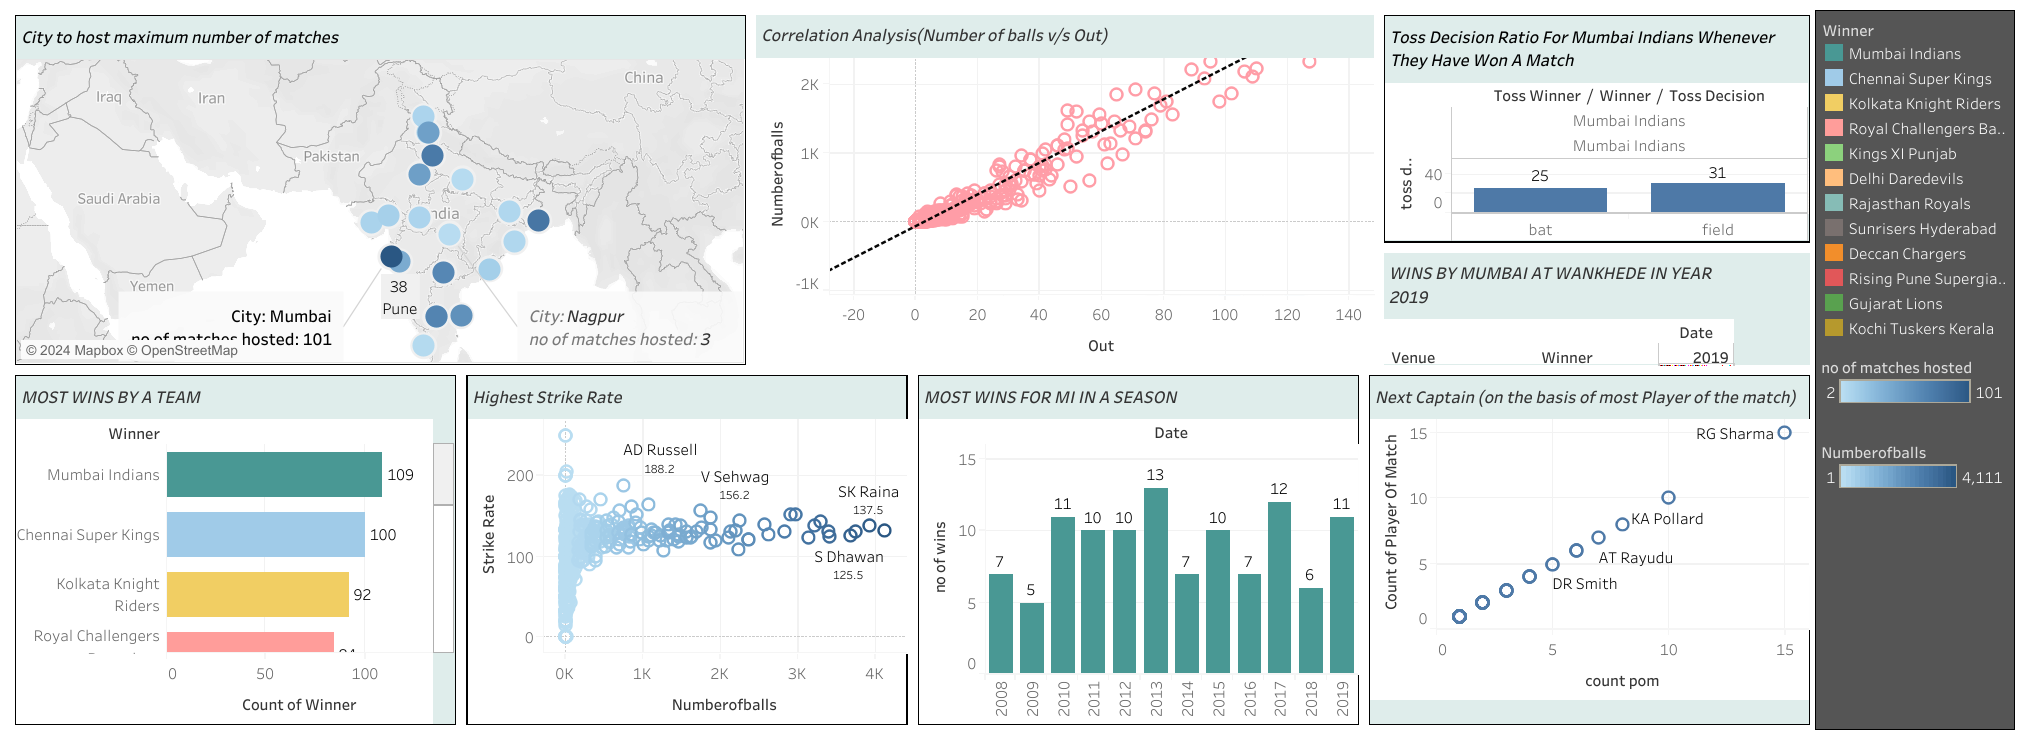

What the dashboard file says about the page in this screenshot:
{"tool":"tableau","page":{"name":"IPL DASHBOARD","canvas":[1000,1000],"units":"permille","ordinal":0},"visuals":[{"type":"worksheet","title":"city to host maximum number of matches","mark":"Automatic","box":[4.9,9.8,366.1,490.2]},{"type":"worksheet","title":"Correlation Analysis(Number of balls v/s Out)","mark":"Automatic","rows":["numberofballs"],"cols":["out"],"box":[371,9.8,309.9,490.2]},{"type":"worksheet","title":"Toss Decision Ratio For Mumbai Indians Whenever They Have Won A Match","mark":"Automatic","rows":["Calculation_1835498360740282371"],"cols":["toss_winner","winner","toss_decision"],"box":[680.9,9.8,215.4,322.7]},{"type":"legend","title":"Most Wins","param":"[federated.0f7ilxc0qfbh5o13xge3o13b1rwz].[none:winner:nk]","box":[896.9,11.1,97.5,347.3]},{"type":"worksheet","title":"Wins by mumbai at wankhede in 2019","mark":"Automatic","rows":["venue","winner"],"cols":["date"],"box":[680.9,332.5,215.4,167.5]},{"type":"legend","title":"city to host maximum number of matches","param":"[federated.0f7ilxc0qfbh5o13xge3o13b1rwz].[usr:Calculation_1835498360738824194:qk","box":[896.9,358.4,97.5,89.9]},{"type":"legend","title":"Highest Strike Rate","param":"[federated.0f7ilxc0qfbh5o13xge3o13b1rwz].[sum:numberofballs:qk]","box":[896.9,448.3,97.5,89.9]},{"type":"worksheet","title":"Most Wins","mark":"Automatic","rows":["winner"],"cols":["winner"],"box":[4.9,500,222.8,490.2]},{"type":"worksheet","title":"Highest Strike Rate","mark":"Automatic","rows":["Calculation_1835498360746192905"],"cols":["numberofballs"],"box":[227.8,500,222.8,490.2]},{"type":"worksheet","title":"MOST WINS FOR MI IN A SEASON","mark":"Bar","rows":["Calculation_1835498360736632832"],"cols":["date"],"box":[450.6,500,222.8,490.2]},{"type":"worksheet","title":"Next Captain (on the basis of most Player of the match)","mark":"Automatic","rows":["player_of_match"],"cols":["Calculation_1835498360744808454"],"box":[673.5,500,222.8,490.2]}]}

Visuals, with their boxes on the dashboard's canvas, which has no fixed pixel size, in thousandths of its width and height (x1, y1, x2, y2). These are canvas units, not pixel positions in the 2024x739 screenshot, which may show the page scaled, cropped or inside an application window:
"city to host maximum number of matches" worksheet: {"left": 5, "top": 10, "right": 371, "bottom": 500}
"Correlation Analysis(Number of balls v/s Out)" worksheet: {"left": 371, "top": 10, "right": 681, "bottom": 500}
"Toss Decision Ratio For Mumbai Indians Whenever They Have Won A Match" worksheet: {"left": 681, "top": 10, "right": 896, "bottom": 332}
"Most Wins" legend: {"left": 897, "top": 11, "right": 994, "bottom": 358}
"Wins by mumbai at wankhede in 2019" worksheet: {"left": 681, "top": 332, "right": 896, "bottom": 500}
"city to host maximum number of matches" legend: {"left": 897, "top": 358, "right": 994, "bottom": 448}
"Highest Strike Rate" legend: {"left": 897, "top": 448, "right": 994, "bottom": 538}
"Most Wins" worksheet: {"left": 5, "top": 500, "right": 228, "bottom": 990}
"Highest Strike Rate" worksheet: {"left": 228, "top": 500, "right": 451, "bottom": 990}
"MOST WINS FOR MI IN A SEASON" worksheet (Bar marks): {"left": 451, "top": 500, "right": 673, "bottom": 990}
"Next Captain (on the basis of most Player of the match)" worksheet: {"left": 674, "top": 500, "right": 896, "bottom": 990}
